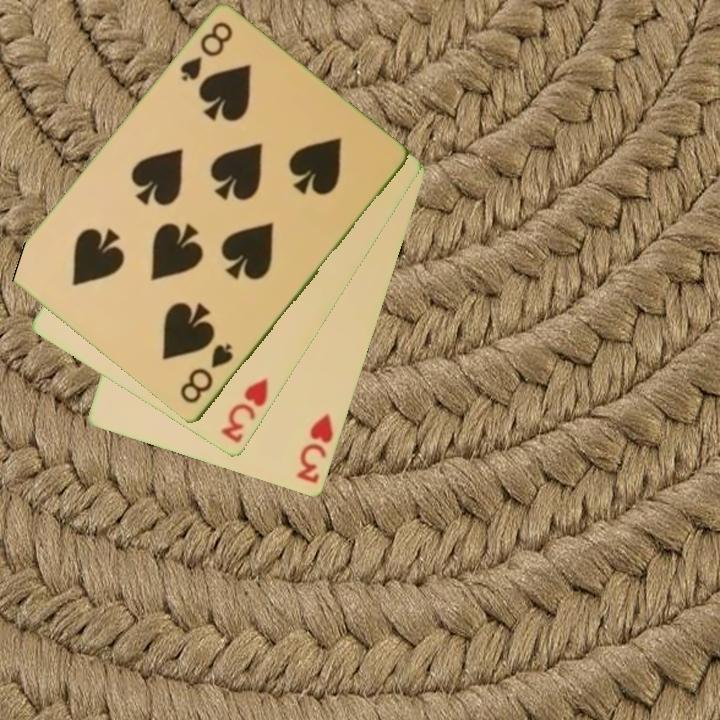3h: (217, 374, 272, 447), (293, 410, 337, 487)
8s: (176, 340, 237, 407), (176, 18, 236, 85)
